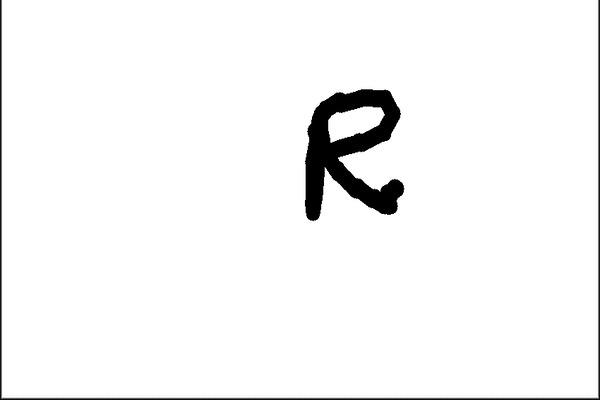R: (283, 74, 413, 238)
